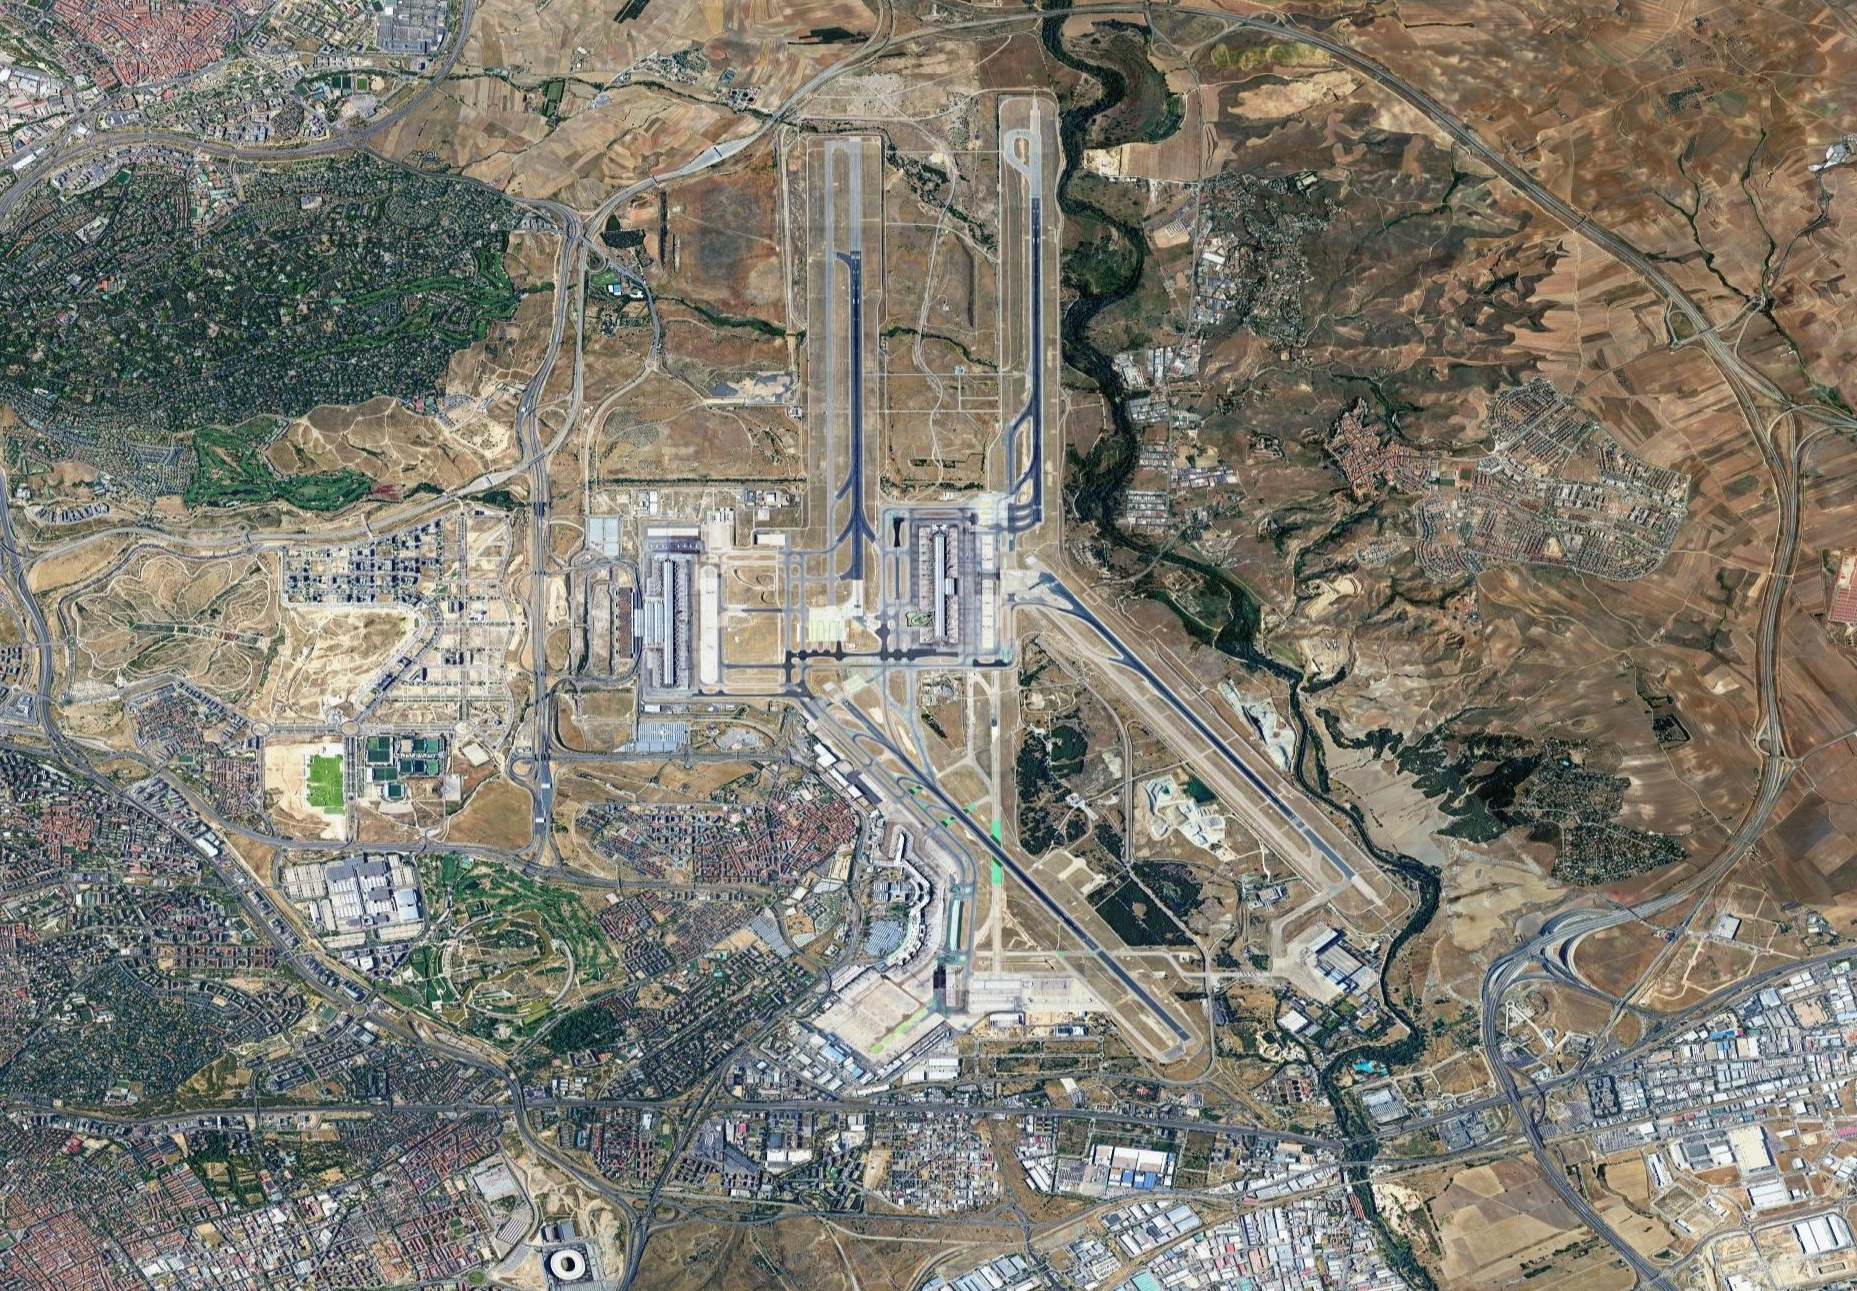airport: (643, 83, 1415, 1071)
motorway: (1585, 222, 1733, 361), (1707, 361, 1857, 499), (1428, 106, 1585, 229), (1266, 18, 1435, 117), (800, 13, 1002, 80), (501, 405, 564, 615), (509, 607, 573, 817), (526, 198, 588, 408), (1, 519, 68, 715), (1724, 681, 1791, 868), (1743, 498, 1808, 684), (363, 816, 531, 885), (1477, 903, 1619, 983), (1571, 1191, 1679, 1291), (207, 799, 360, 868), (1002, 1, 1267, 40), (1496, 1089, 1575, 1199), (1619, 849, 1729, 928), (515, 861, 693, 907), (598, 1177, 659, 1291), (1476, 985, 1532, 1098), (42, 715, 135, 783), (526, 1132, 607, 1196), (485, 1061, 538, 1134)
